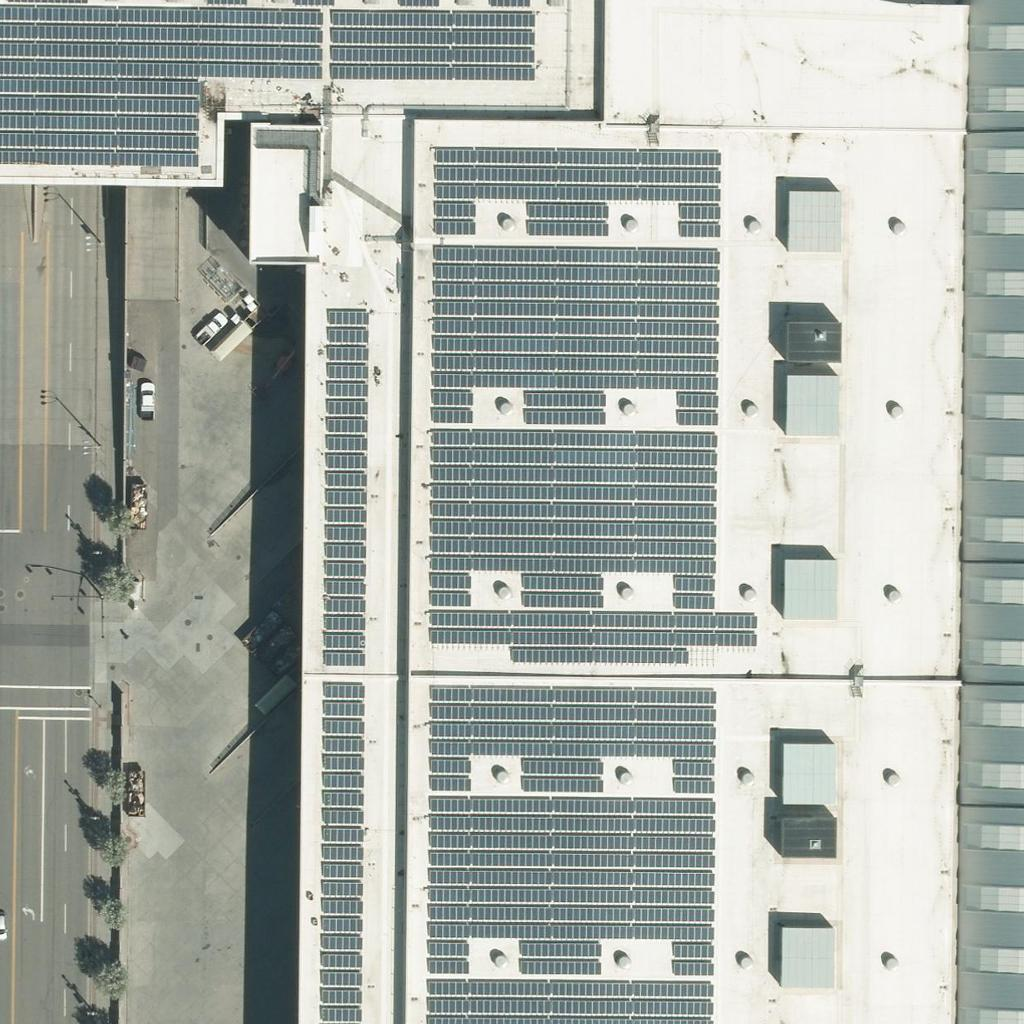car: (197, 308, 231, 342), (128, 381, 162, 415)
